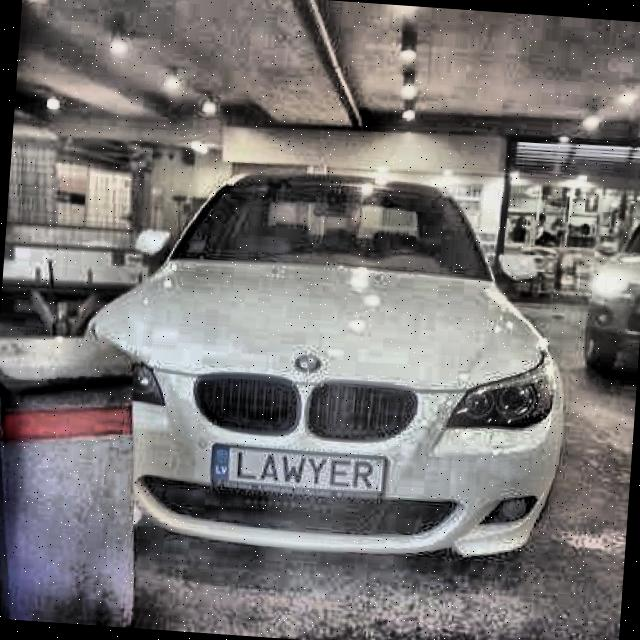license_plate: (208, 444, 382, 506)
